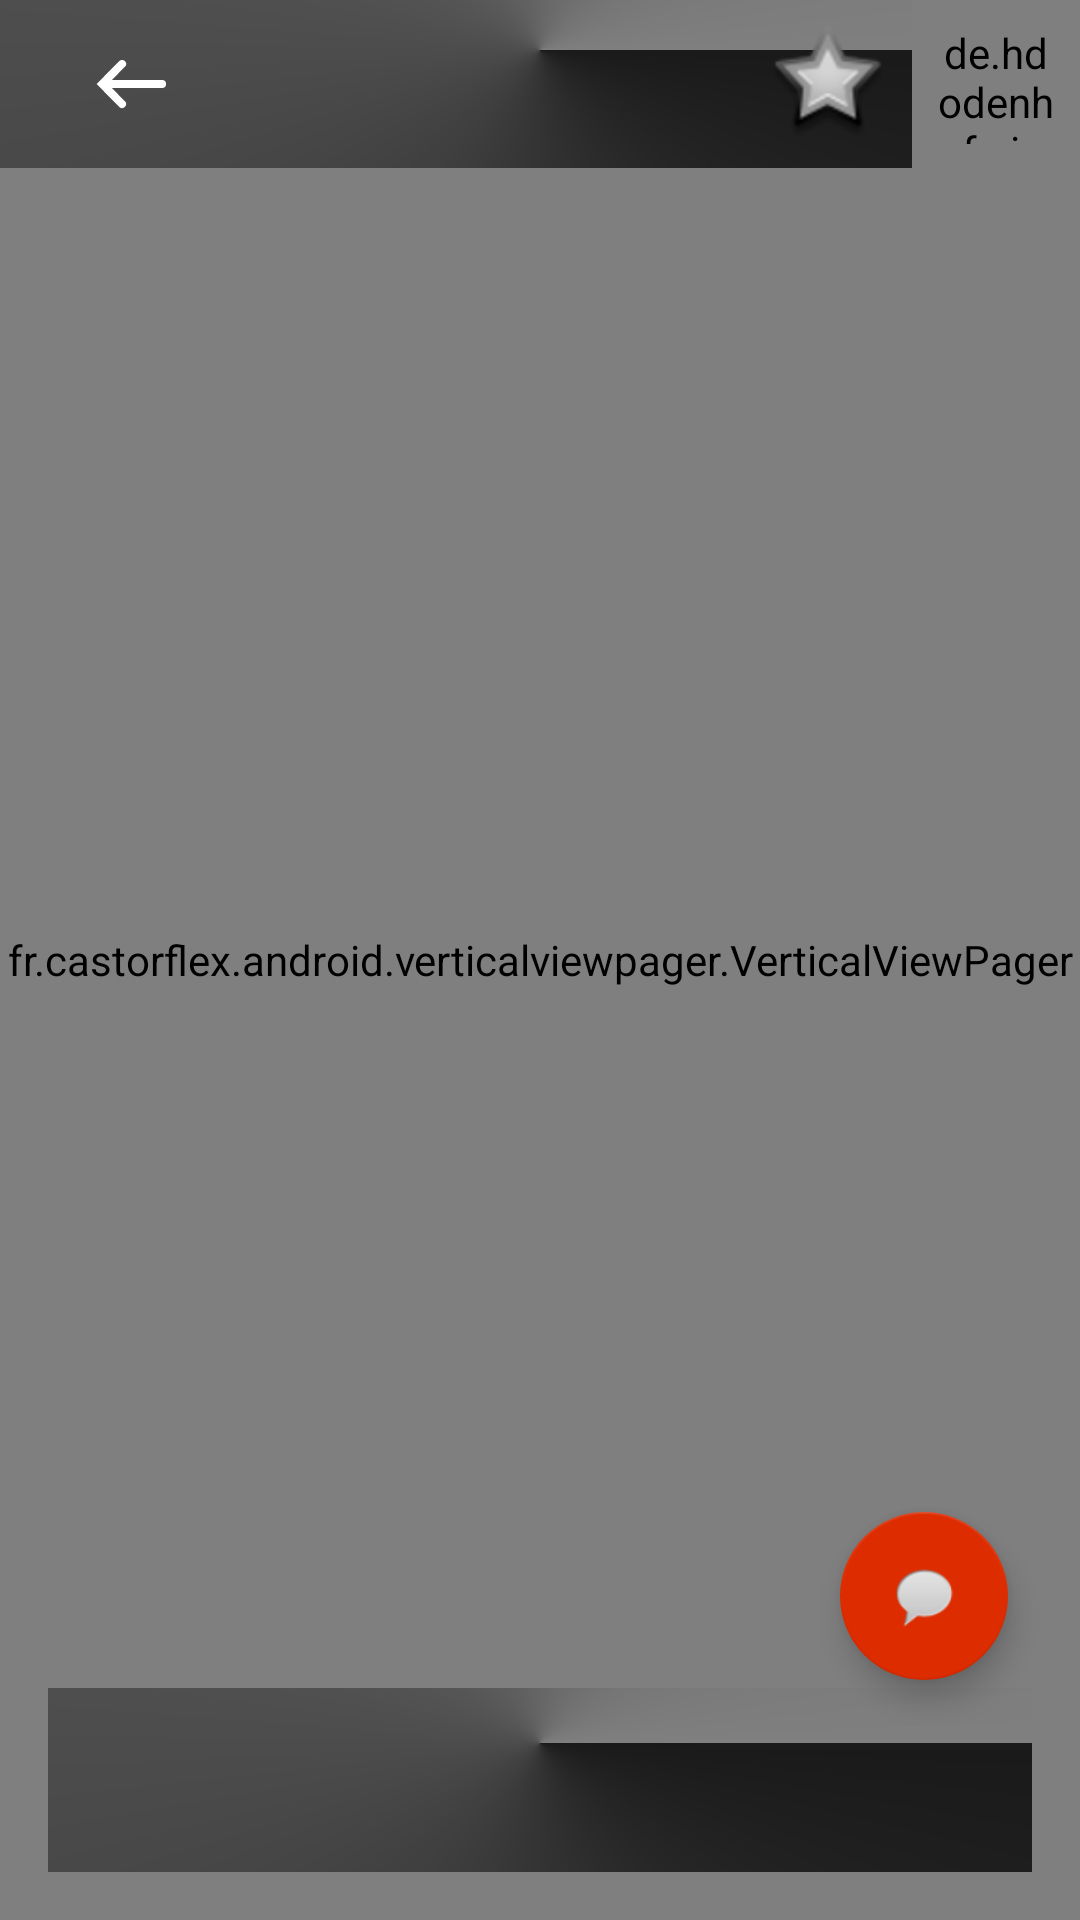

Icon click points for this 1080 x 1920 phone screenshot, format [x,y]:
back arrow: [131,84]
Button when pressed help start chat with post owner: [924,1596]
star off: [828,107]
